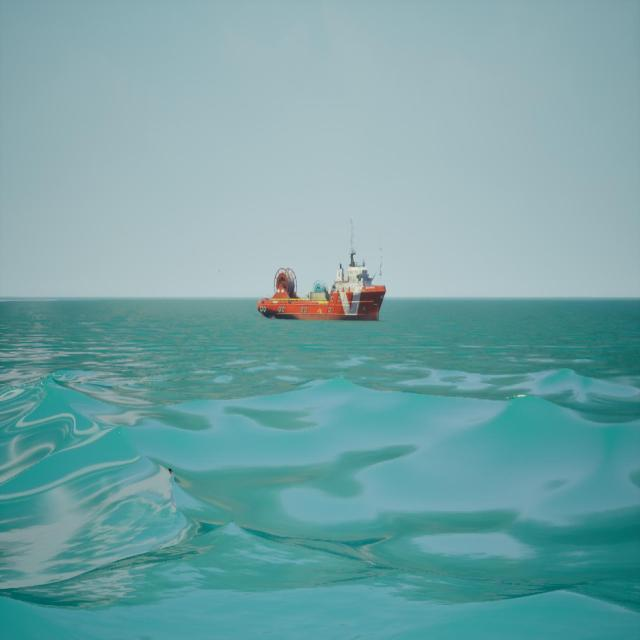tug boat: (259, 218, 386, 324)
